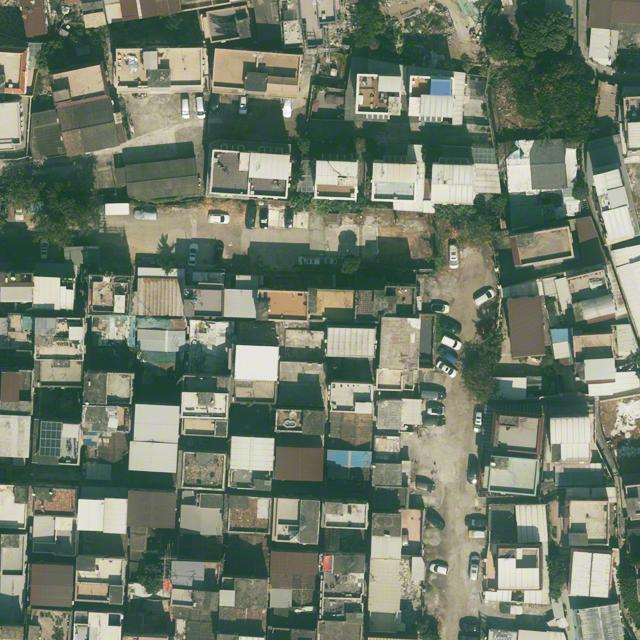panel: (40, 422, 62, 457)
